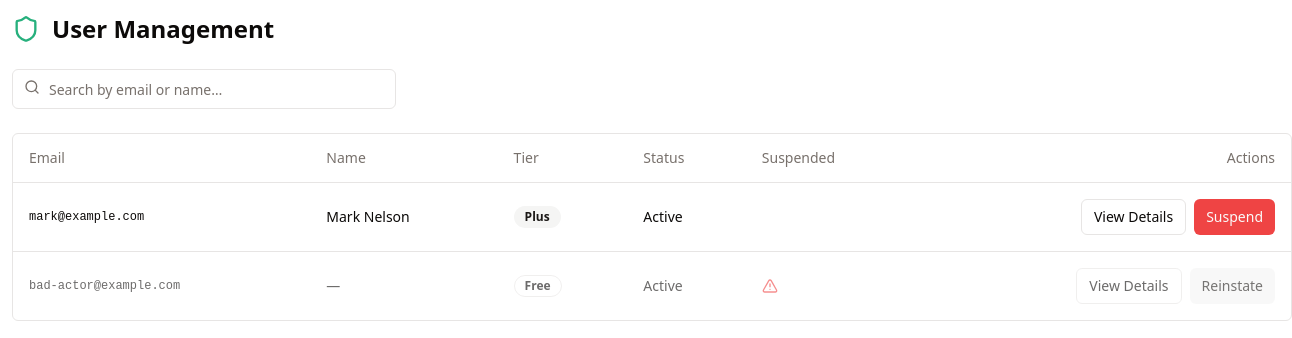
UserManagement (admin) › filters the table by email or name as the user types
Expected: the text "mark@example.com" is shown, [13, 182, 310, 251]
Type "mark" into the field with placeholder "Search by email or name…" at (204, 89), box [12, 69, 396, 109]
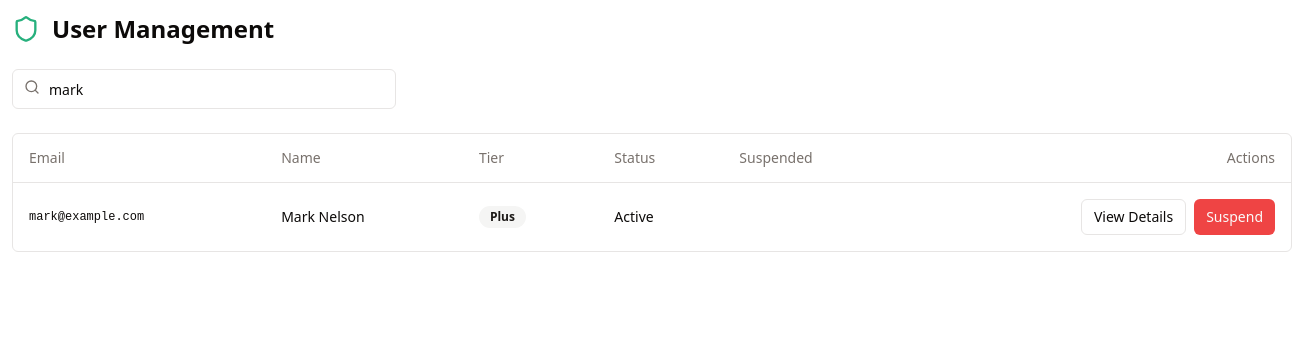
Expected: the text "mark@example.com" is shown, [13, 182, 265, 250]
Expected: the text "bad-actor@example.com" is gone
